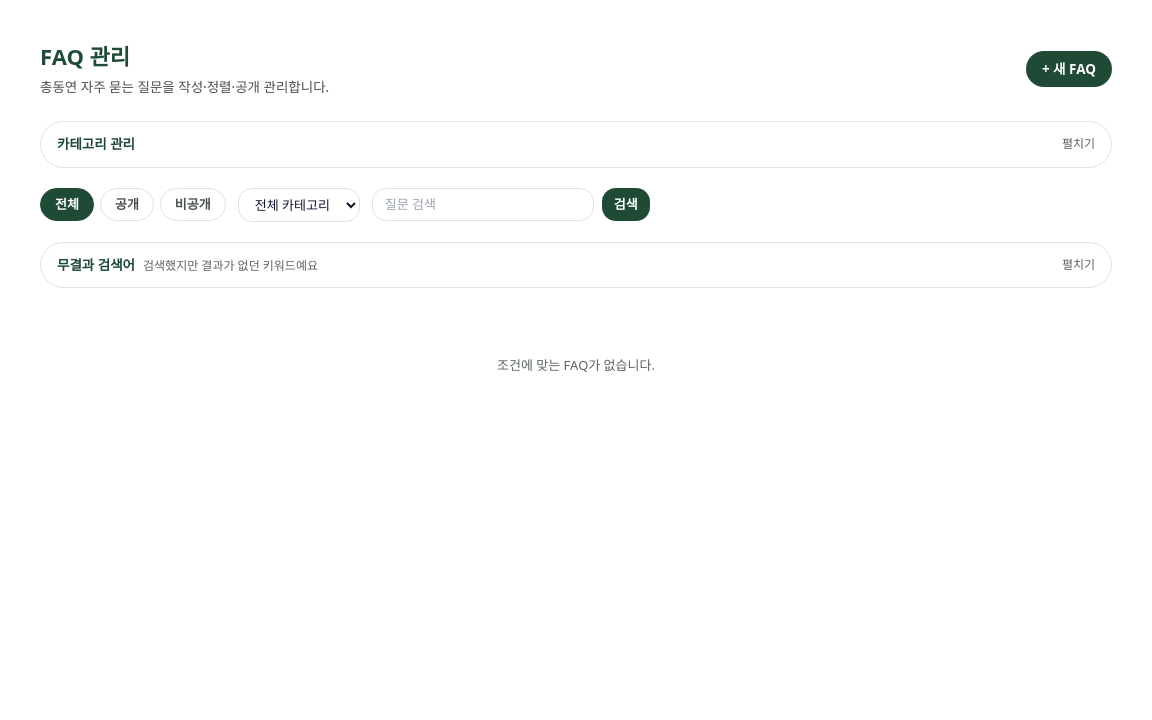
AdminFaqListPage › 카테고리 삭제 › 삭제가 성공하면 다이얼로그가 닫힌다
This screenshot has width=1152, height=720.
Click the button "카테고리 관리 펼치기" at (96, 144), box [41, 122, 1111, 167]
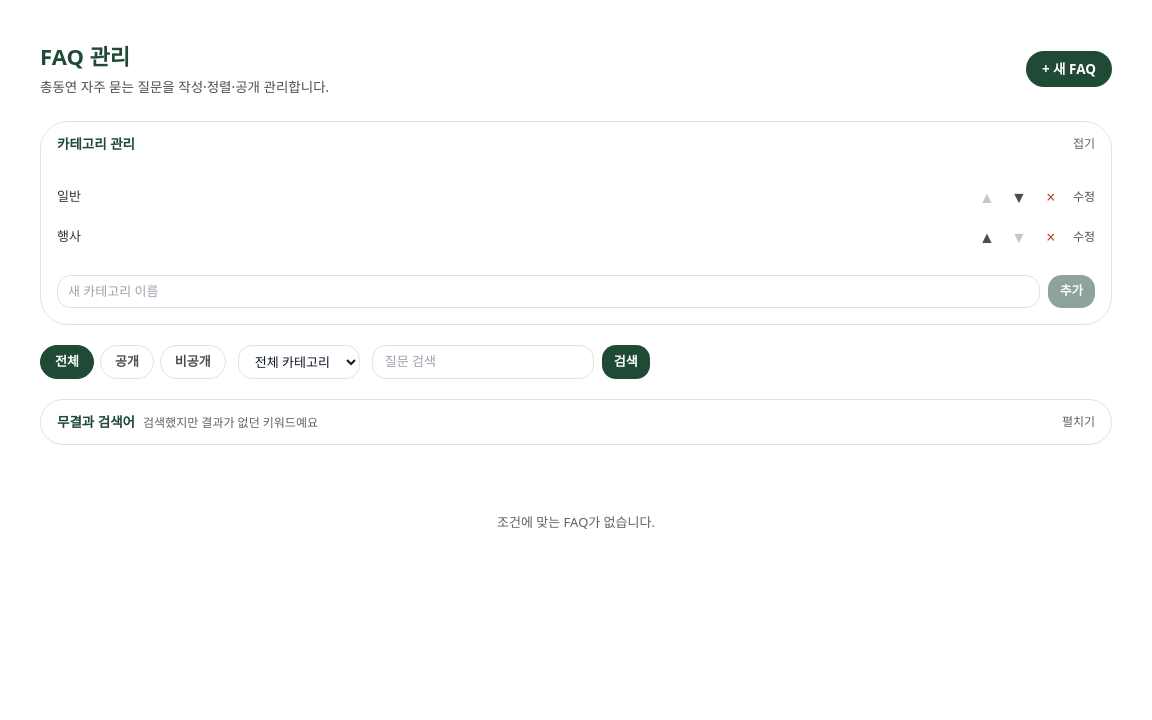
Click the button named "'일반' 카테고리 삭제" at (1051, 196), box [1037, 182, 1065, 210]
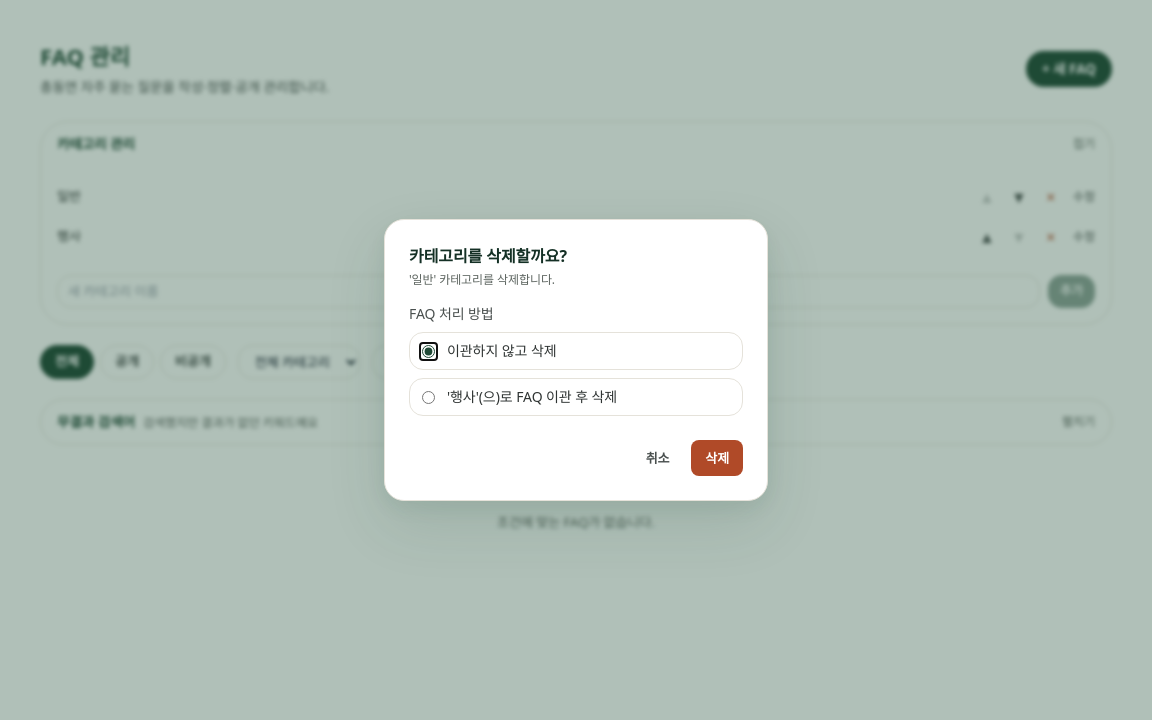
Click the button "삭제" at (717, 458), box [691, 440, 743, 476]
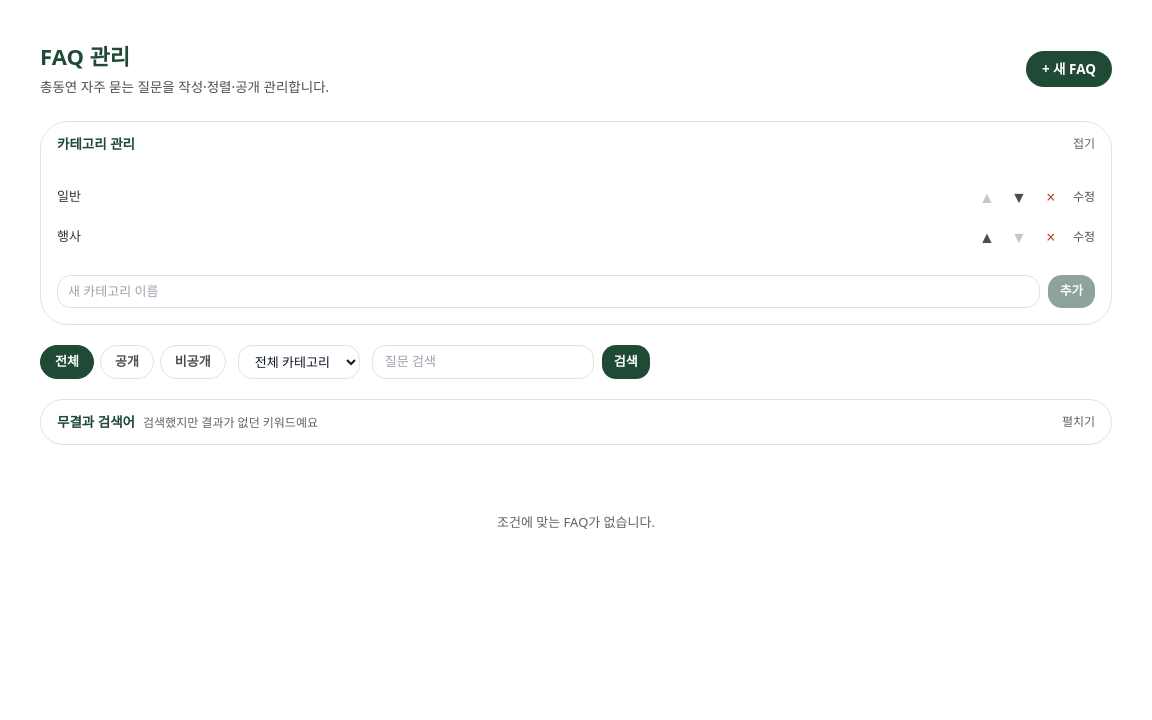
Check: the heading "카테고리를 삭제할까요?" is gone
